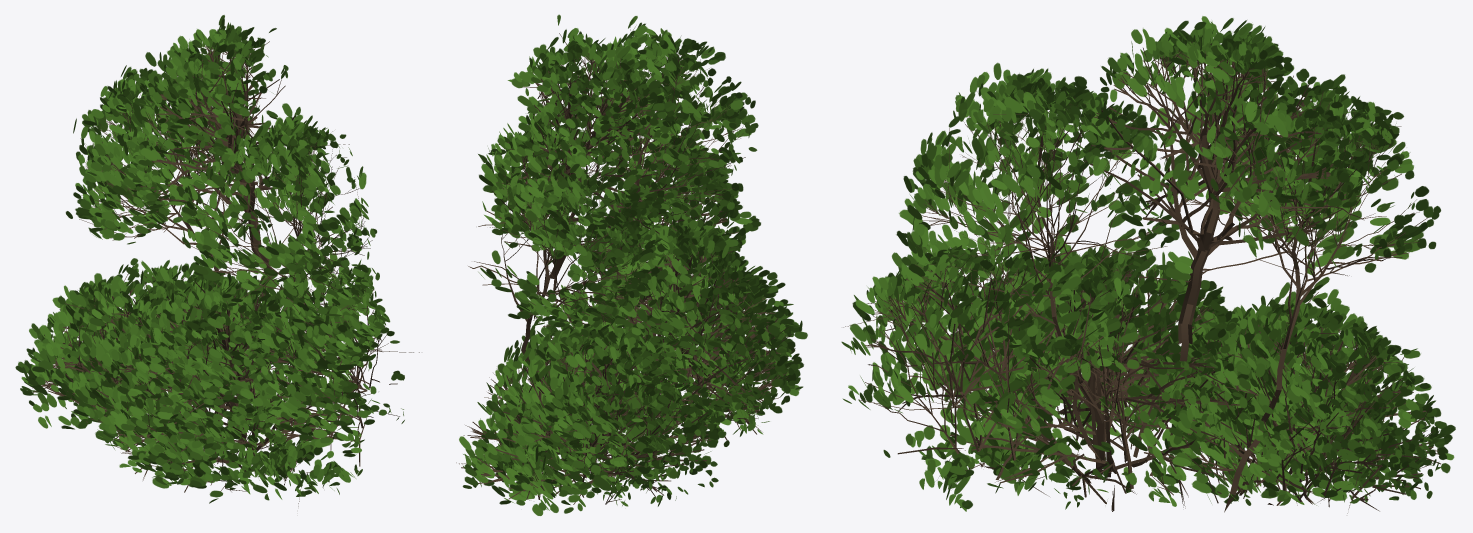
3 views of the same model, side by side, from view 1: azimuth 30°, elevation 25°; view 2: azimuth 150°, elevation 25°; view 3: azimuth 270°, elevation 25° (orthographic). The views are drawn at different scales.
Visible parts, largest first — view 1: oak 01.001_trunk_Mat.001_0.264; view 2: oak 01.001_trunk_Mat.001_0.264; view 3: oak 01.001_trunk_Mat.001_0.264.
Boxes of the visible parts, <box> form: oak 01.001_trunk_Mat.001_0.264: <box>15,15,419,506</box>; oak 01.001_trunk_Mat.001_0.264: <box>456,14,807,515</box>; oak 01.001_trunk_Mat.001_0.264: <box>841,16,1455,513</box>.
Size of the model in its own units: 2.91 by 5.11 by 5.75.
2 materials, 1 textured.
